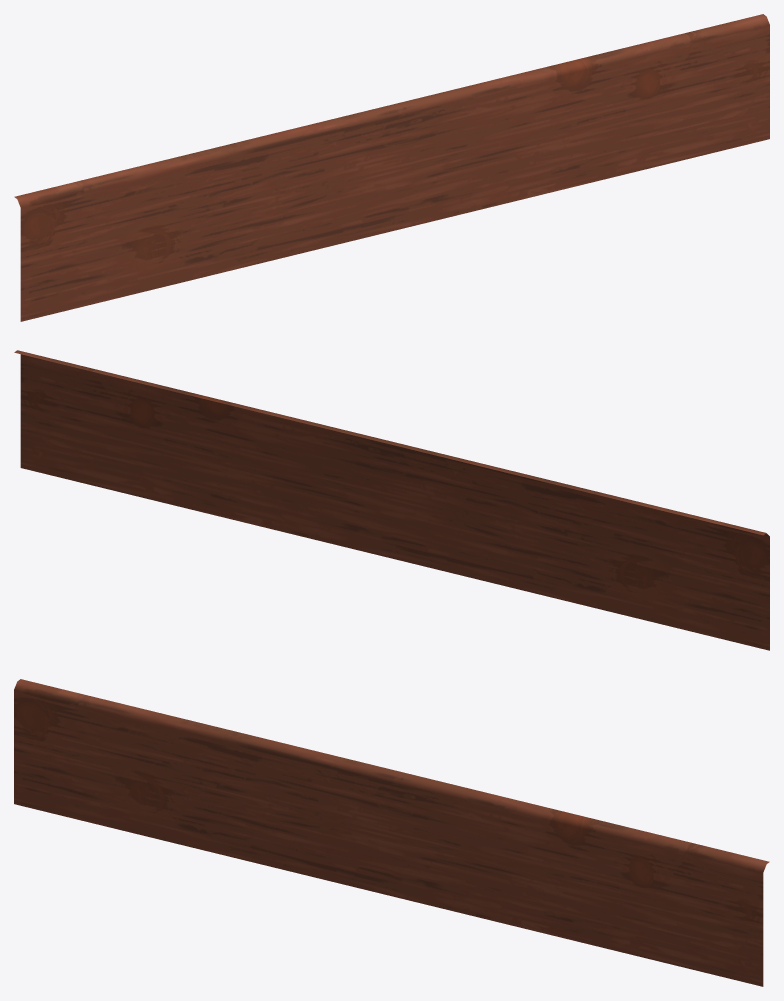
Rendered from En_W_Woodtrim.fbx.
The picture shows the model from 3 angles, top to bottom: view 1: azimuth 30°, elevation 25°; view 2: azimuth 150°, elevation 25°; view 3: azimuth 330°, elevation 25°; orthographic projection.
Visible parts, largest first — view 1: En_W_Woodtrim; view 2: En_W_Woodtrim; view 3: En_W_Woodtrim.
Boxes of the visible parts, x1,y1,x2,y2 form: En_W_Woodtrim: (14,14,769,321); En_W_Woodtrim: (14,350,769,650); En_W_Woodtrim: (14,679,769,986).
Bounding box in the file's own units: 400 × 61.33 × 6.13.
